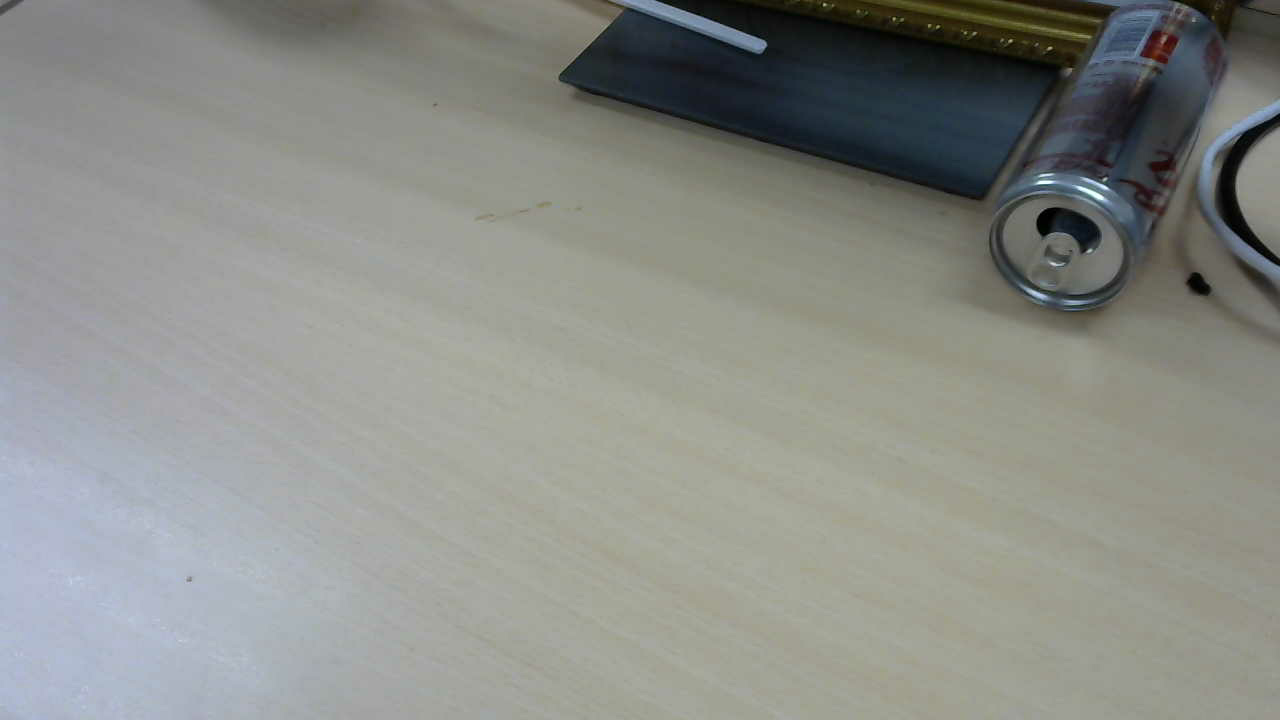Coca_Cola: (992, 4, 1237, 317)
